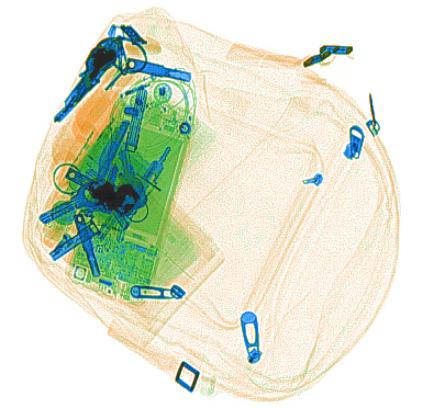knife: (95, 118, 131, 181)
